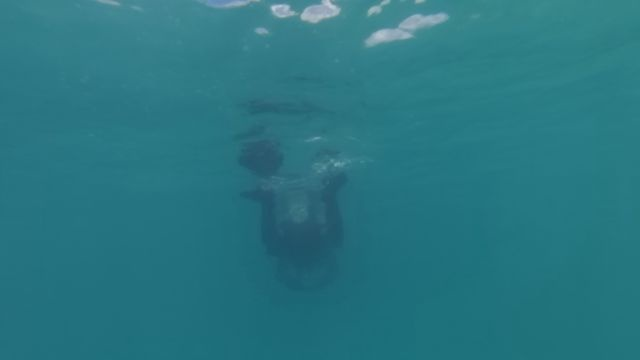Diver: (232, 153, 366, 301)
